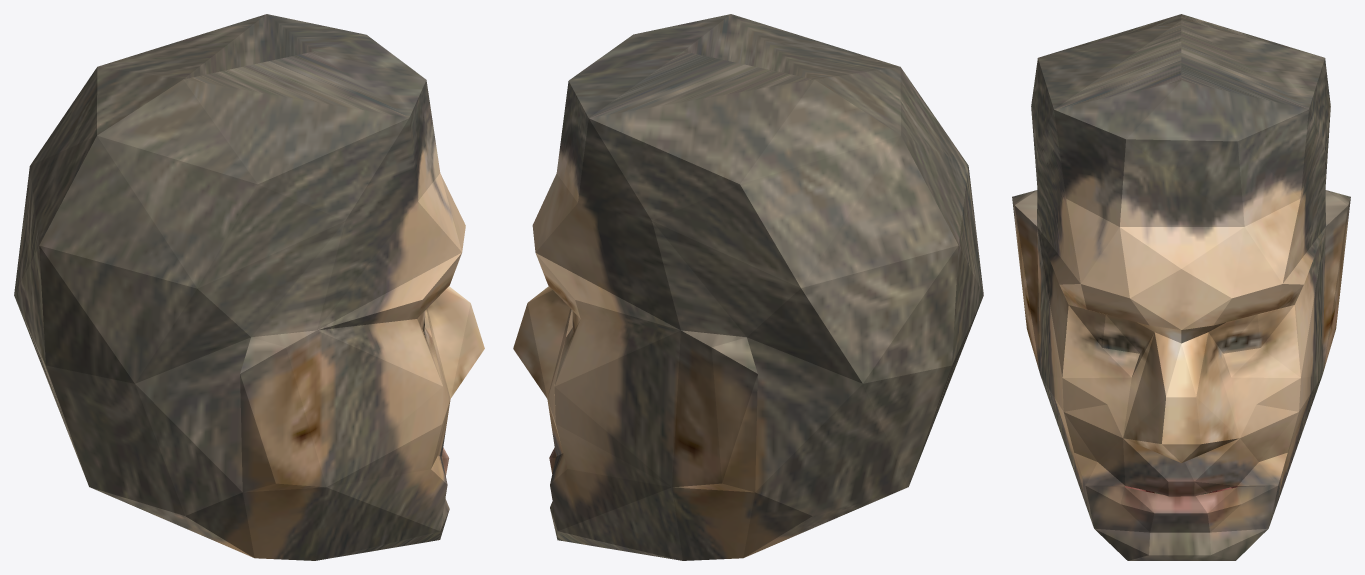
Rendered from FIGHTER-DNf4OF_t.glb.
3 renders of one model, left to right at view 1: azimuth 30°, elevation 25°; view 2: azimuth 150°, elevation 25°; view 3: azimuth 270°, elevation 25°, orthographic. The views are drawn at different scales.
Parts seen in each view (by area): view 1: zm_Morph; view 2: zm_Morph; view 3: zm_Morph.
Boxes of the visible parts, left/top/right/bottom form: zm_Morph: left=14, top=14, right=484, bottom=560; zm_Morph: left=513, top=14, right=983, bottom=560; zm_Morph: left=1012, top=14, right=1350, bottom=560.
Size of the model in its own units: 0.2394 by 0.2599 by 0.1808.
3 materials, 3 textured.
